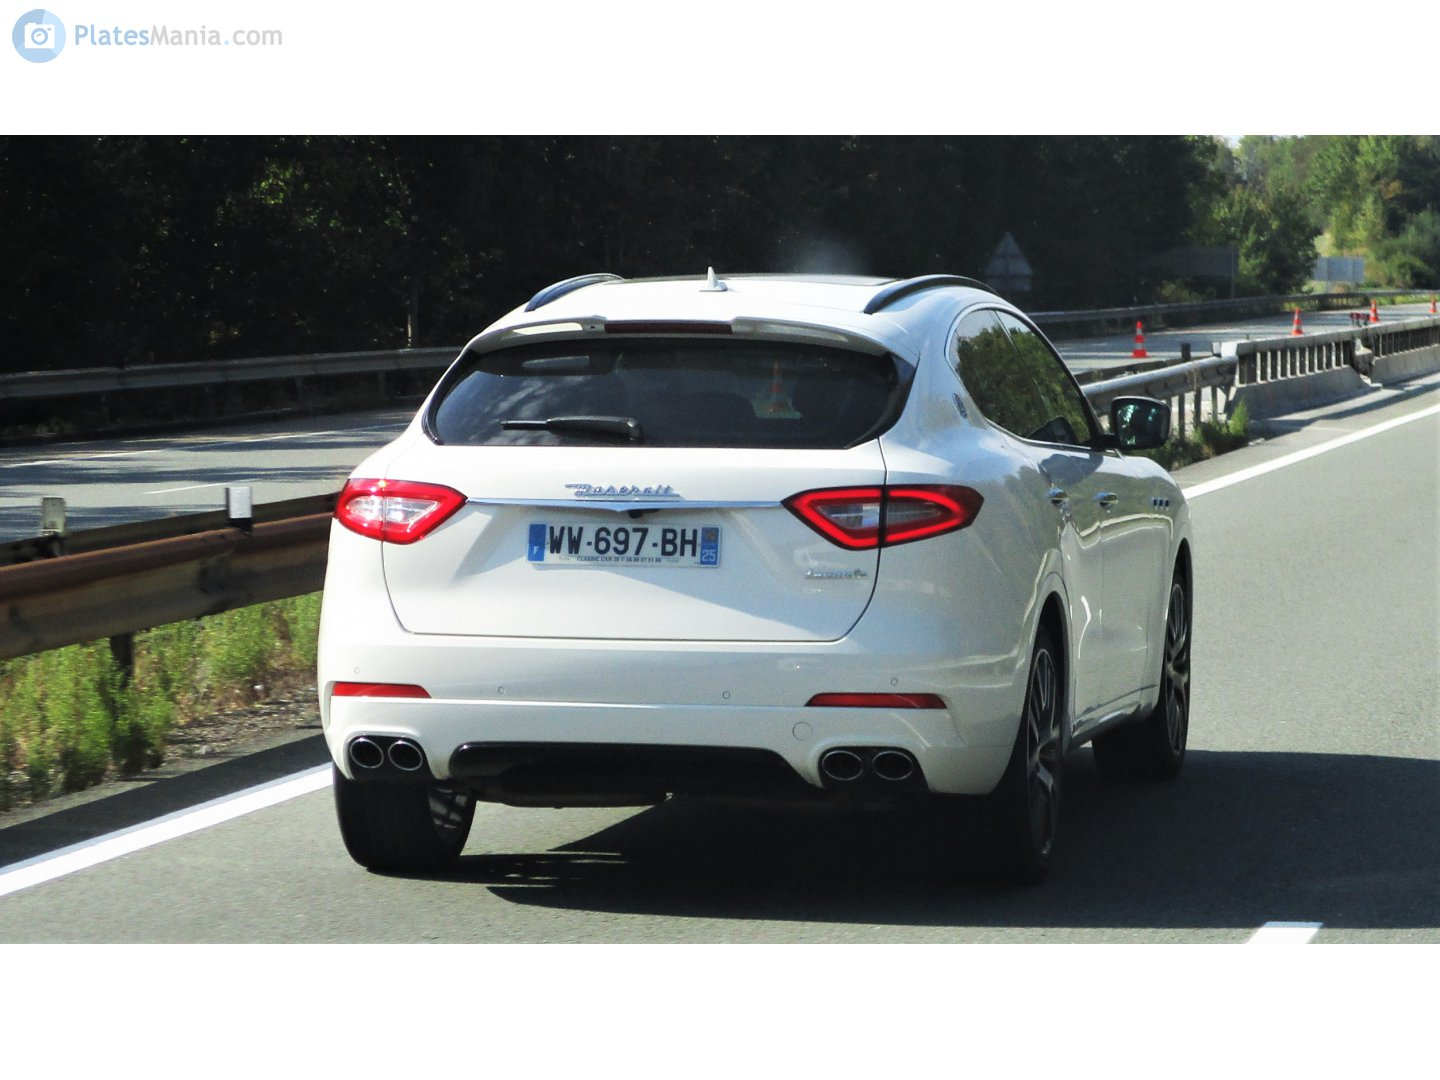licence plate: (519, 515, 730, 574)
